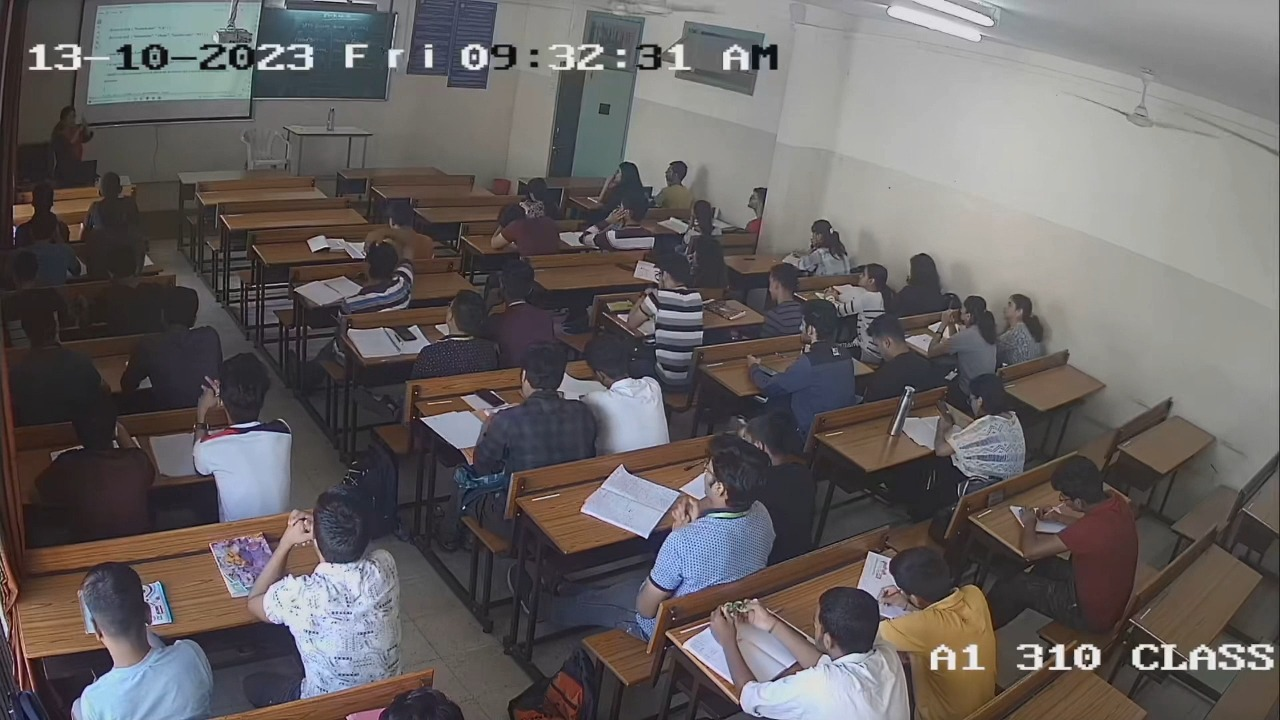cell-phones: (474, 387, 507, 409), (935, 398, 958, 428), (985, 486, 1008, 509), (603, 298, 636, 313), (393, 323, 418, 342), (754, 361, 781, 378), (616, 260, 637, 274)
person: (1037, 453, 1141, 623), (477, 339, 595, 459), (938, 370, 1027, 477), (769, 299, 857, 406), (412, 290, 502, 373), (631, 254, 705, 348), (686, 235, 731, 289)
